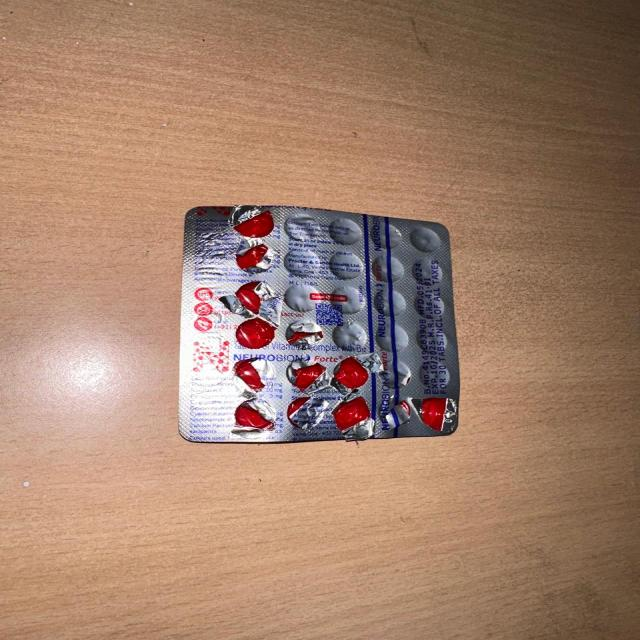medicine: (156, 192, 467, 448)
